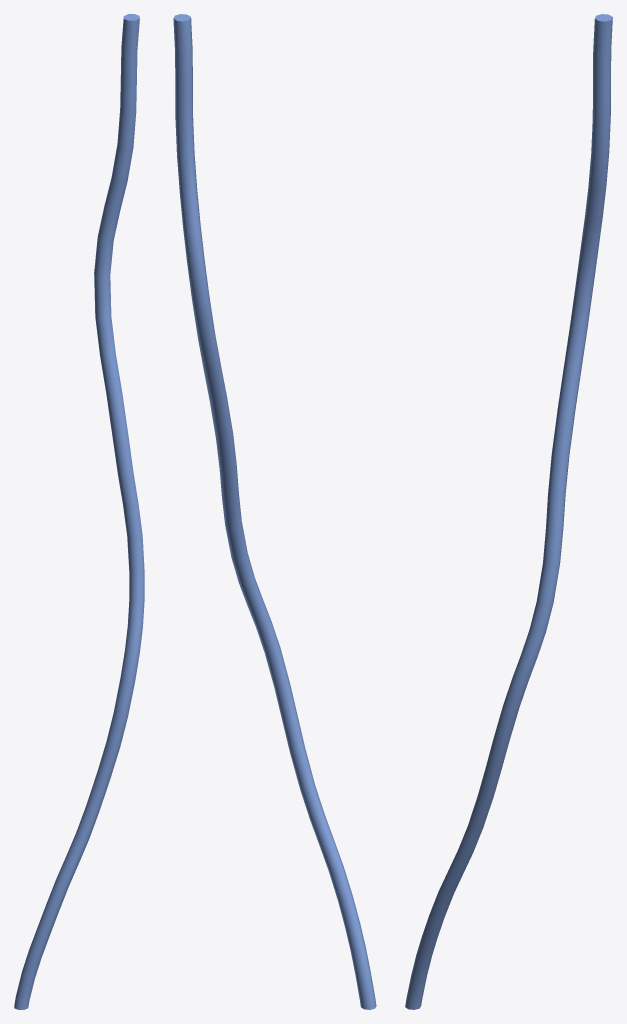
File: veine-cephalique.glb
3 renders of one model, left to right at view 1: azimuth 30°, elevation 25°; view 2: azimuth 150°, elevation 25°; view 3: azimuth 330°, elevation 25°, orthographic. The views are drawn at different scales.
Parts seen in each view (by area): view 1: veine-cephalique; view 2: veine-cephalique; view 3: veine-cephalique.
Boxes of the visible parts, x1,y1,x2,y2 form: veine-cephalique: [14, 14, 144, 1009]; veine-cephalique: [173, 14, 376, 1009]; veine-cephalique: [405, 14, 612, 1009].
Size of the model in its own units: 0.0426 by 0.24 by 0.0266.
